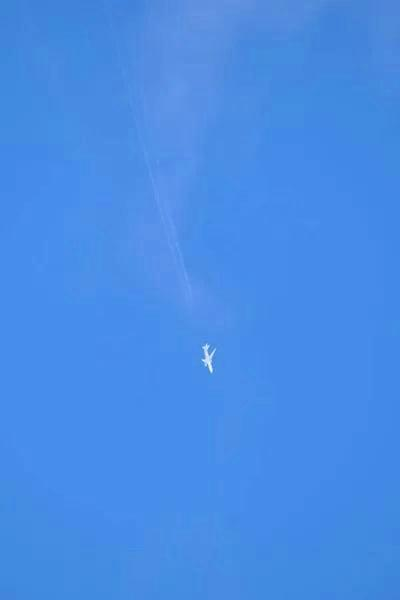Plane: (190, 332, 226, 384)
